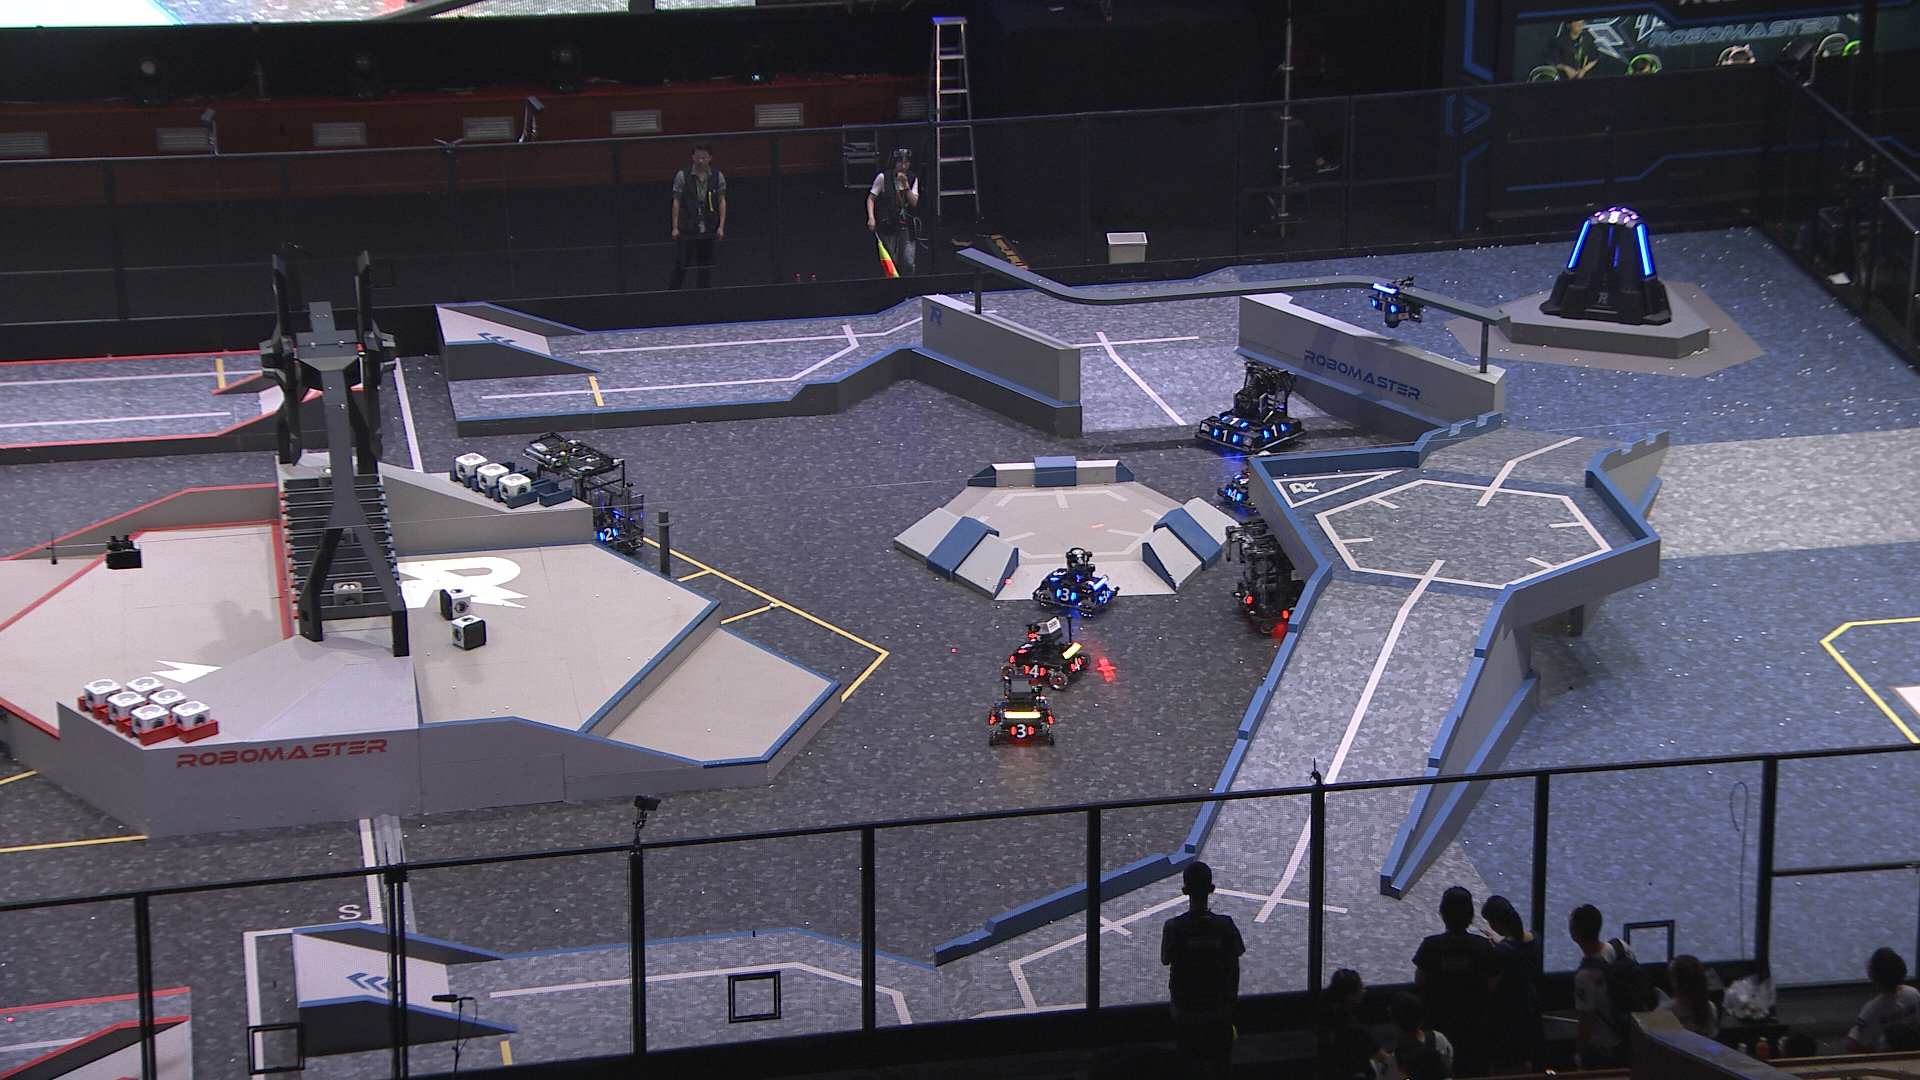armor: (1565, 218, 1594, 273), (1633, 220, 1658, 276), (1212, 425, 1240, 447), (1221, 413, 1250, 433), (596, 524, 621, 545), (1007, 721, 1035, 740), (1262, 422, 1290, 440), (1371, 295, 1396, 314), (1021, 665, 1048, 680), (1054, 585, 1076, 604), (1048, 564, 1067, 585), (1015, 638, 1036, 655), (1238, 585, 1255, 607), (1067, 654, 1084, 674), (1226, 485, 1244, 505), (1282, 605, 1300, 622), (1605, 224, 1617, 251), (1097, 585, 1112, 605), (1233, 472, 1249, 485)
base: (1534, 200, 1675, 330)
car: (518, 431, 650, 560), (1220, 509, 1338, 640), (1196, 361, 1313, 452), (997, 613, 1093, 692), (1216, 439, 1305, 516), (1030, 546, 1120, 618), (984, 674, 1058, 749)
ignore: (1596, 208, 1631, 225)
watcher: (1366, 272, 1424, 332)
